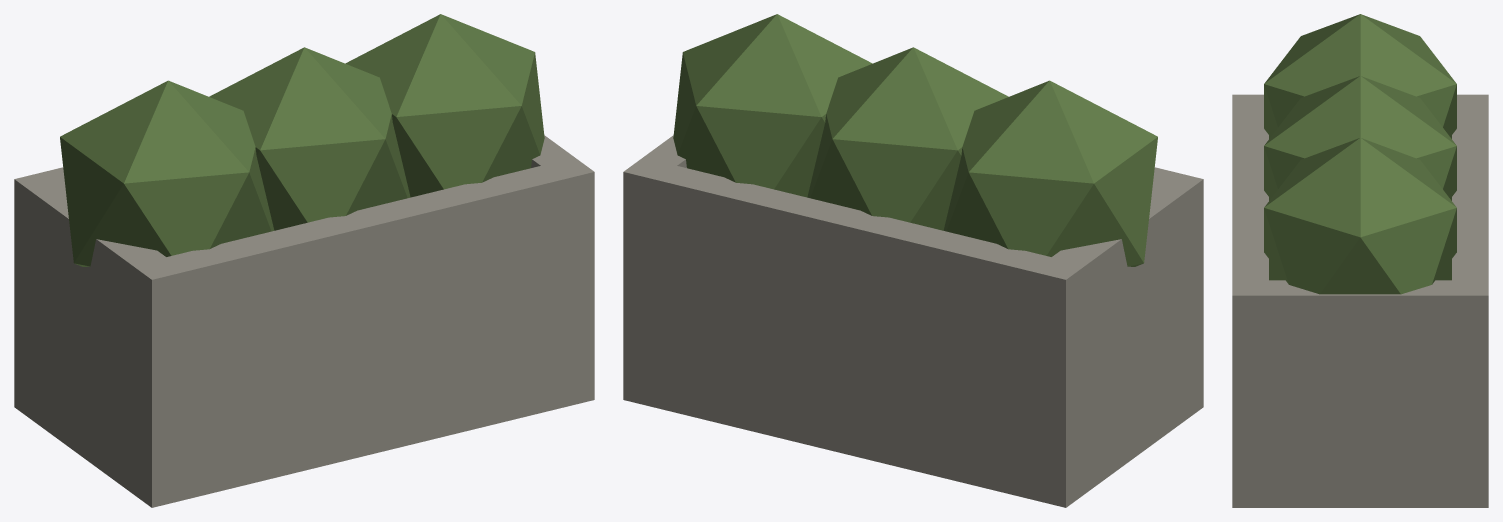
File: planter.glb
3 views of the same model, side by side, from view 1: azimuth 30°, elevation 25°; view 2: azimuth 150°, elevation 25°; view 3: azimuth 270°, elevation 25° (orthographic). The views are drawn at different scales.
Parts seen in each view (by area): view 1: planter; view 2: planter; view 3: planter.
Part boxes in pixels (left/top/right/bottom): planter: left=14, top=14, right=594, bottom=507; planter: left=623, top=14, right=1203, bottom=507; planter: left=1232, top=14, right=1488, bottom=507.
Size of the model in its own units: 1.35 by 1 by 0.7.
